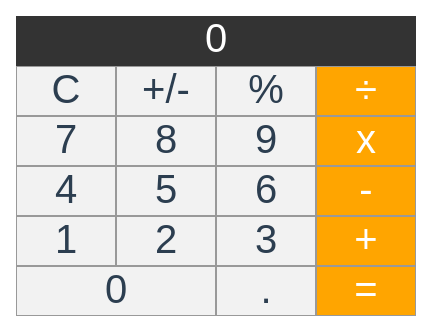
Test: Calculator › should do the operation when a current, a previous and an operator is assigned
Click the button with id "equal" at (366, 291), box [316,266,416,316]
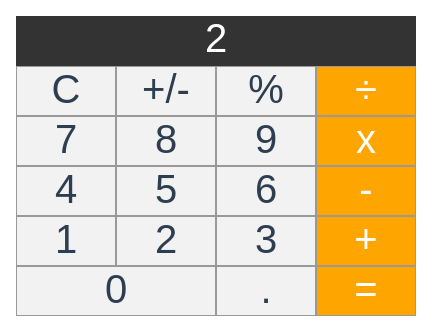
Check: the text with class "display" reads "2", box [205,16,227,60]
